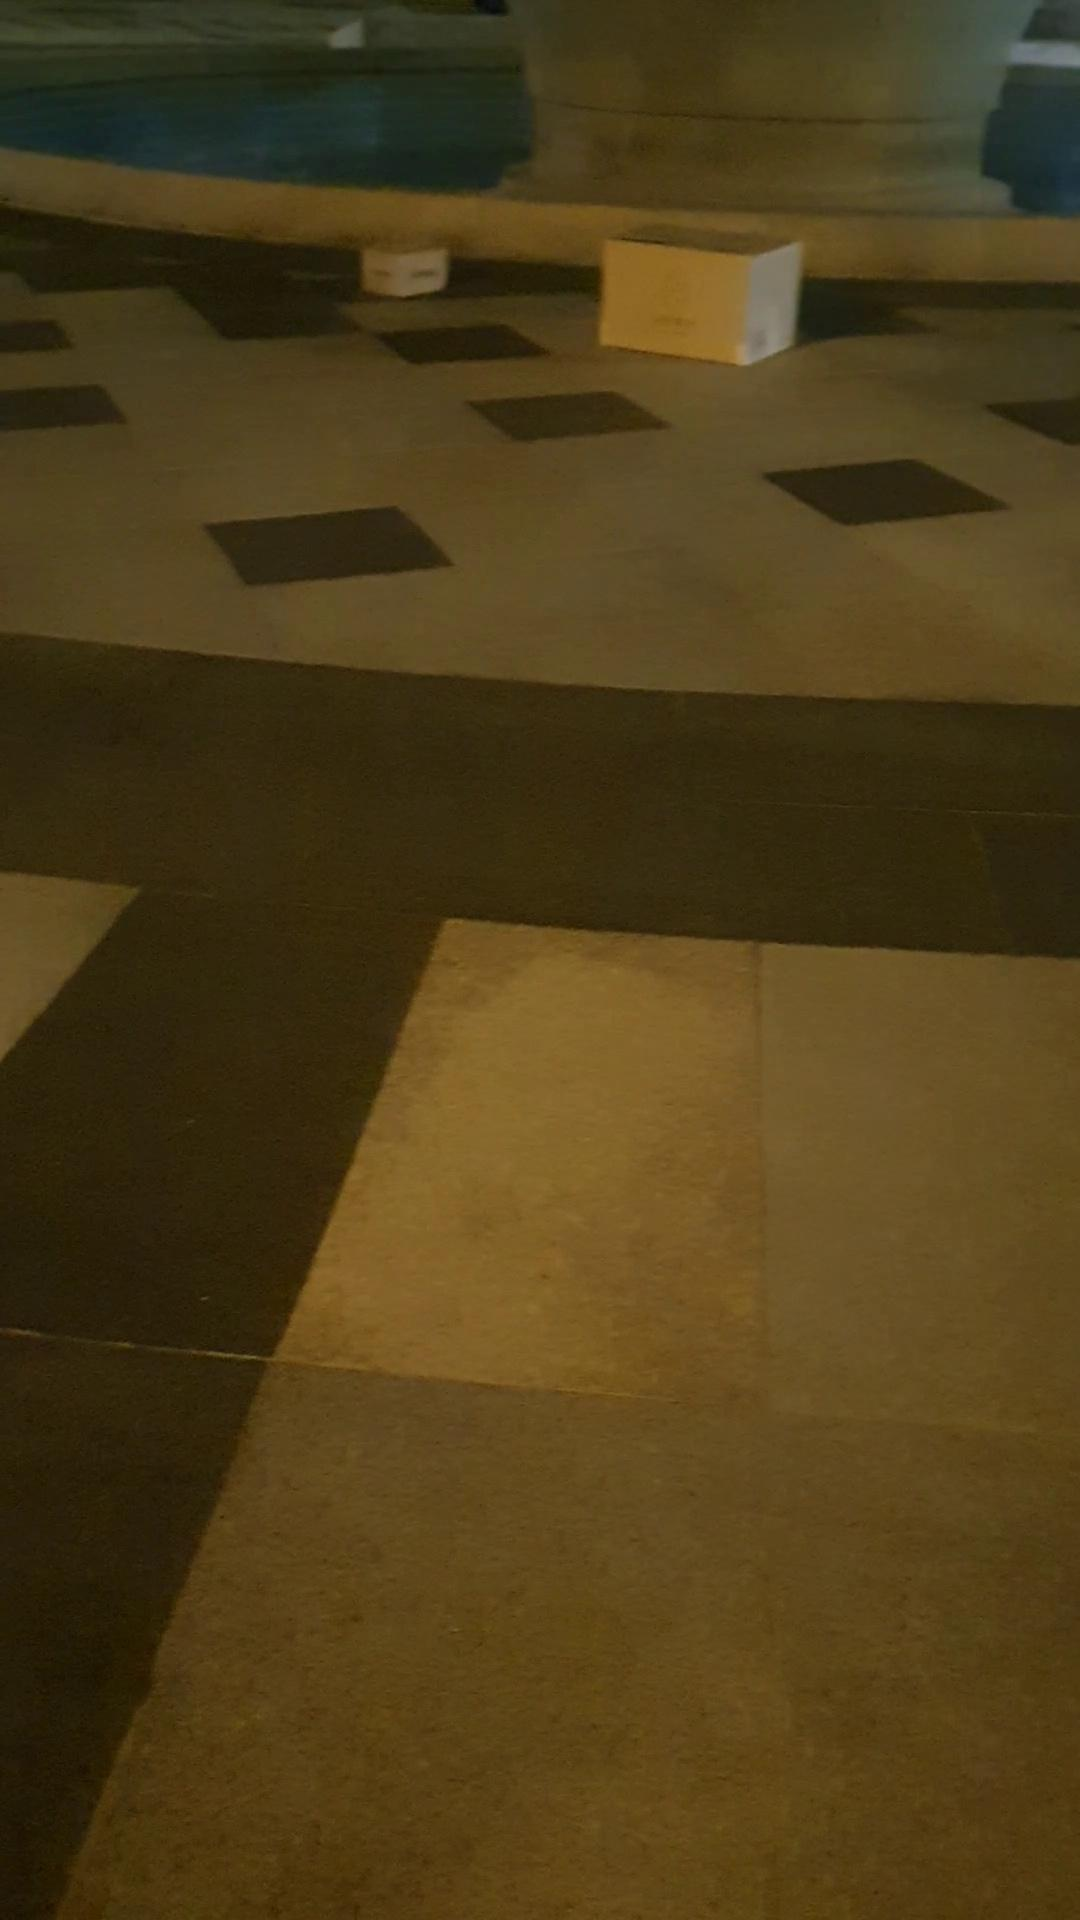Box: (597, 210, 802, 377), (342, 223, 463, 313)
